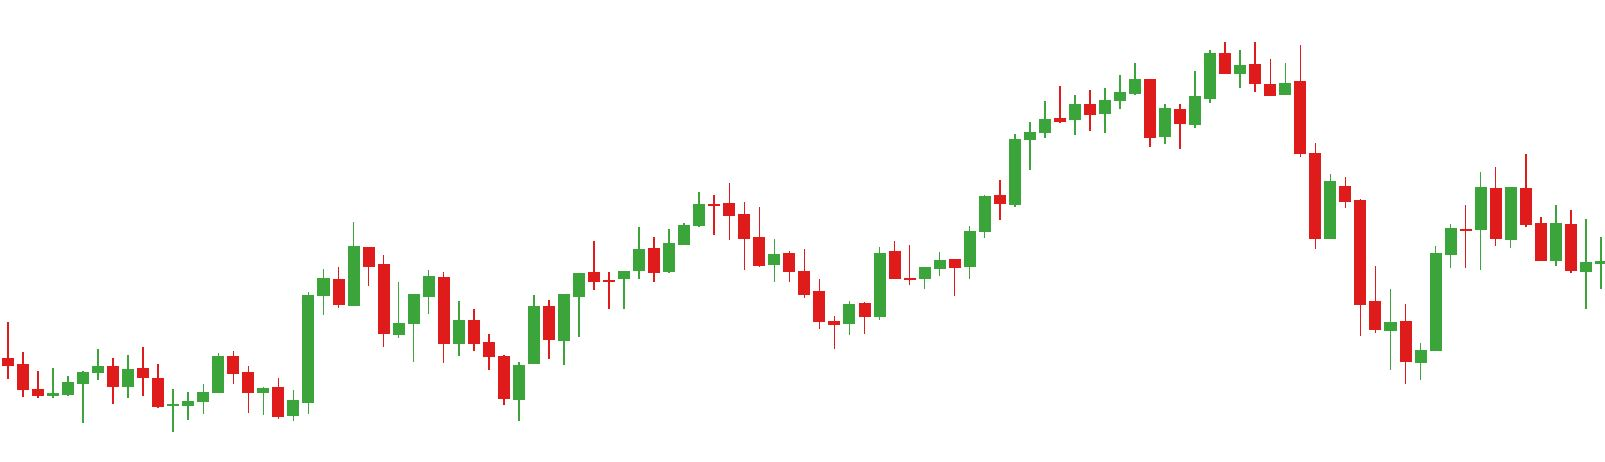buy: (76, 365, 183, 437)
sell: (1127, 37, 1233, 115)
